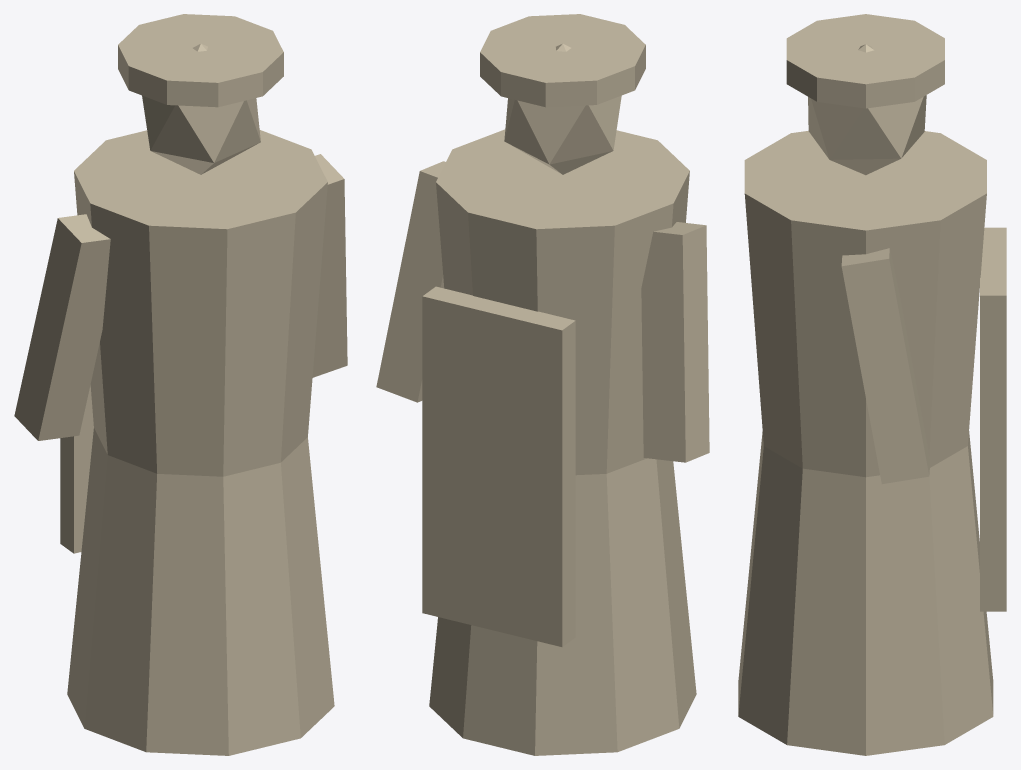
File: townsfolk_b.fbx
3 views of the same model, side by side, from view 1: azimuth 30°, elevation 25°; view 2: azimuth 150°, elevation 25°; view 3: azimuth 270°, elevation 25° (orthographic).
Visible parts, largest first — view 1: townsfolk_b; view 2: townsfolk_b; view 3: townsfolk_b.
Part boxes in pixels (x1,y1,x2,y2): townsfolk_b: (14,14,347,755); townsfolk_b: (376,14,709,755); townsfolk_b: (738,14,1006,755).
Size of the model in its own units: 266 by 539 by 200.
